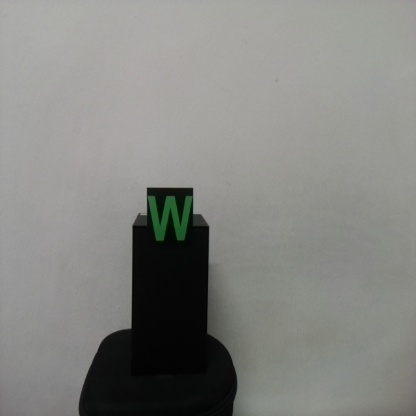id_12: (146, 187, 194, 250)
